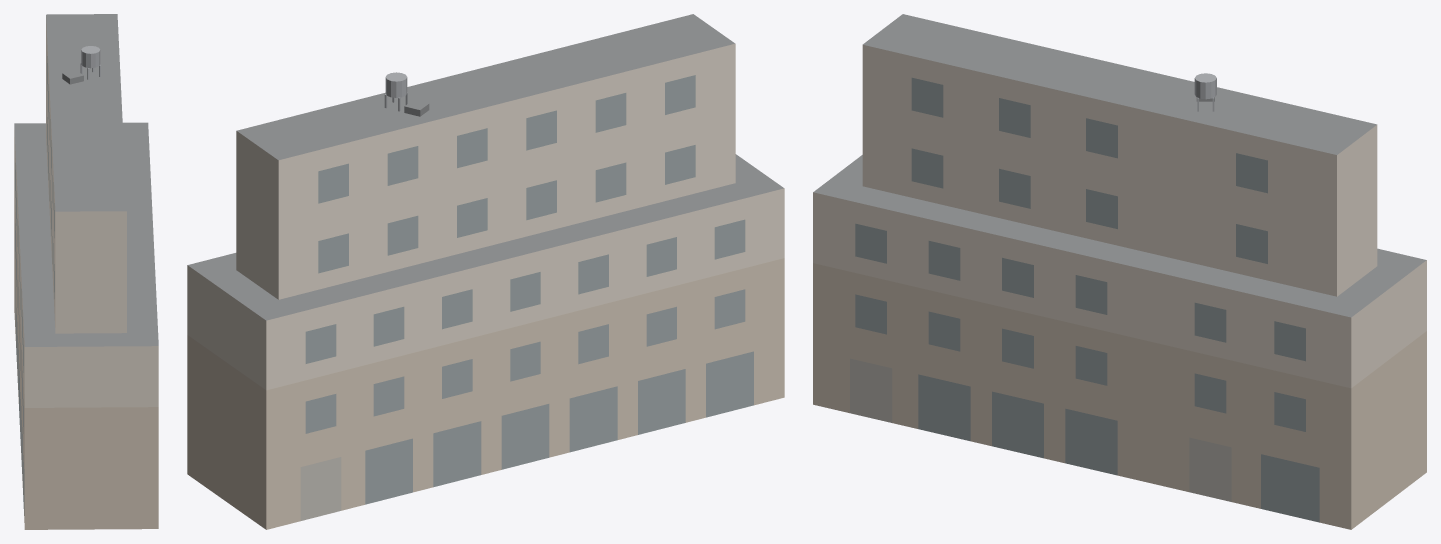
Rendered from doitt-502491__lod_1.glb.
3 renders of one model, left to right at view 1: azimuth 30°, elevation 25°; view 2: azimuth 150°, elevation 25°; view 3: azimuth 270°, elevation 25°, orthographic. The views are drawn at different scales.
Size of the model in its own units: 21.45 by 21.01 by 30.43.
